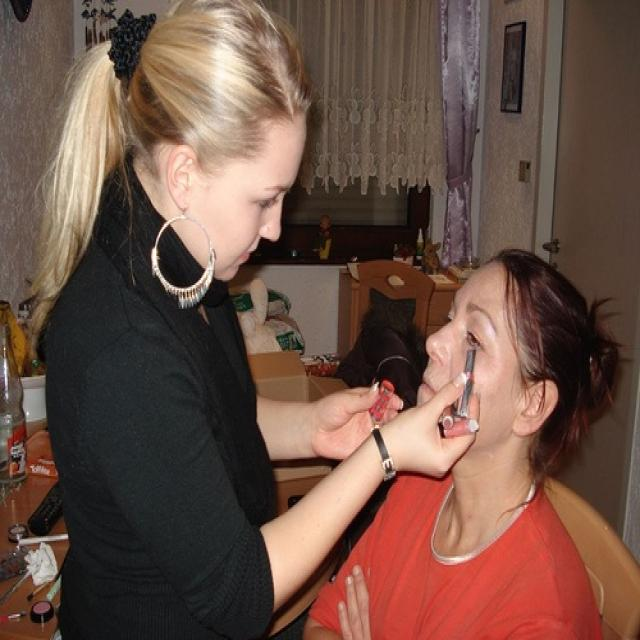bottle: (1, 325, 28, 496)
chair: (462, 459, 640, 640)
person: (45, 6, 477, 639), (301, 249, 626, 640)
